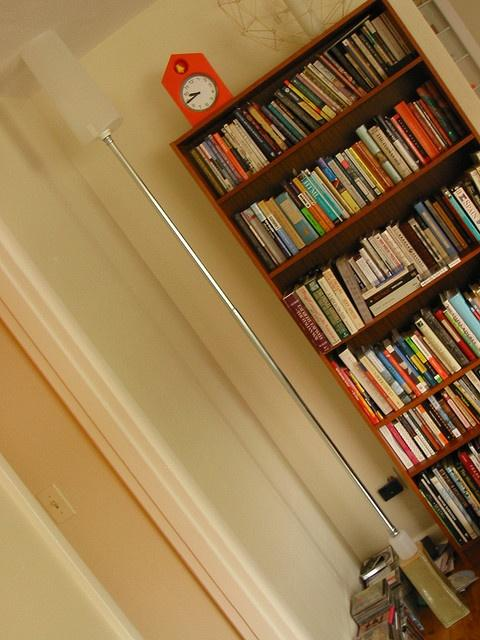Rak: (167, 0, 479, 565)
